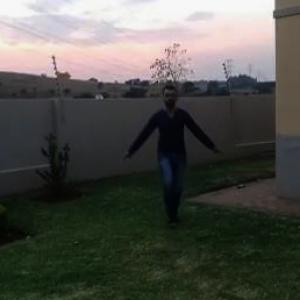land: (119, 78, 228, 248)
